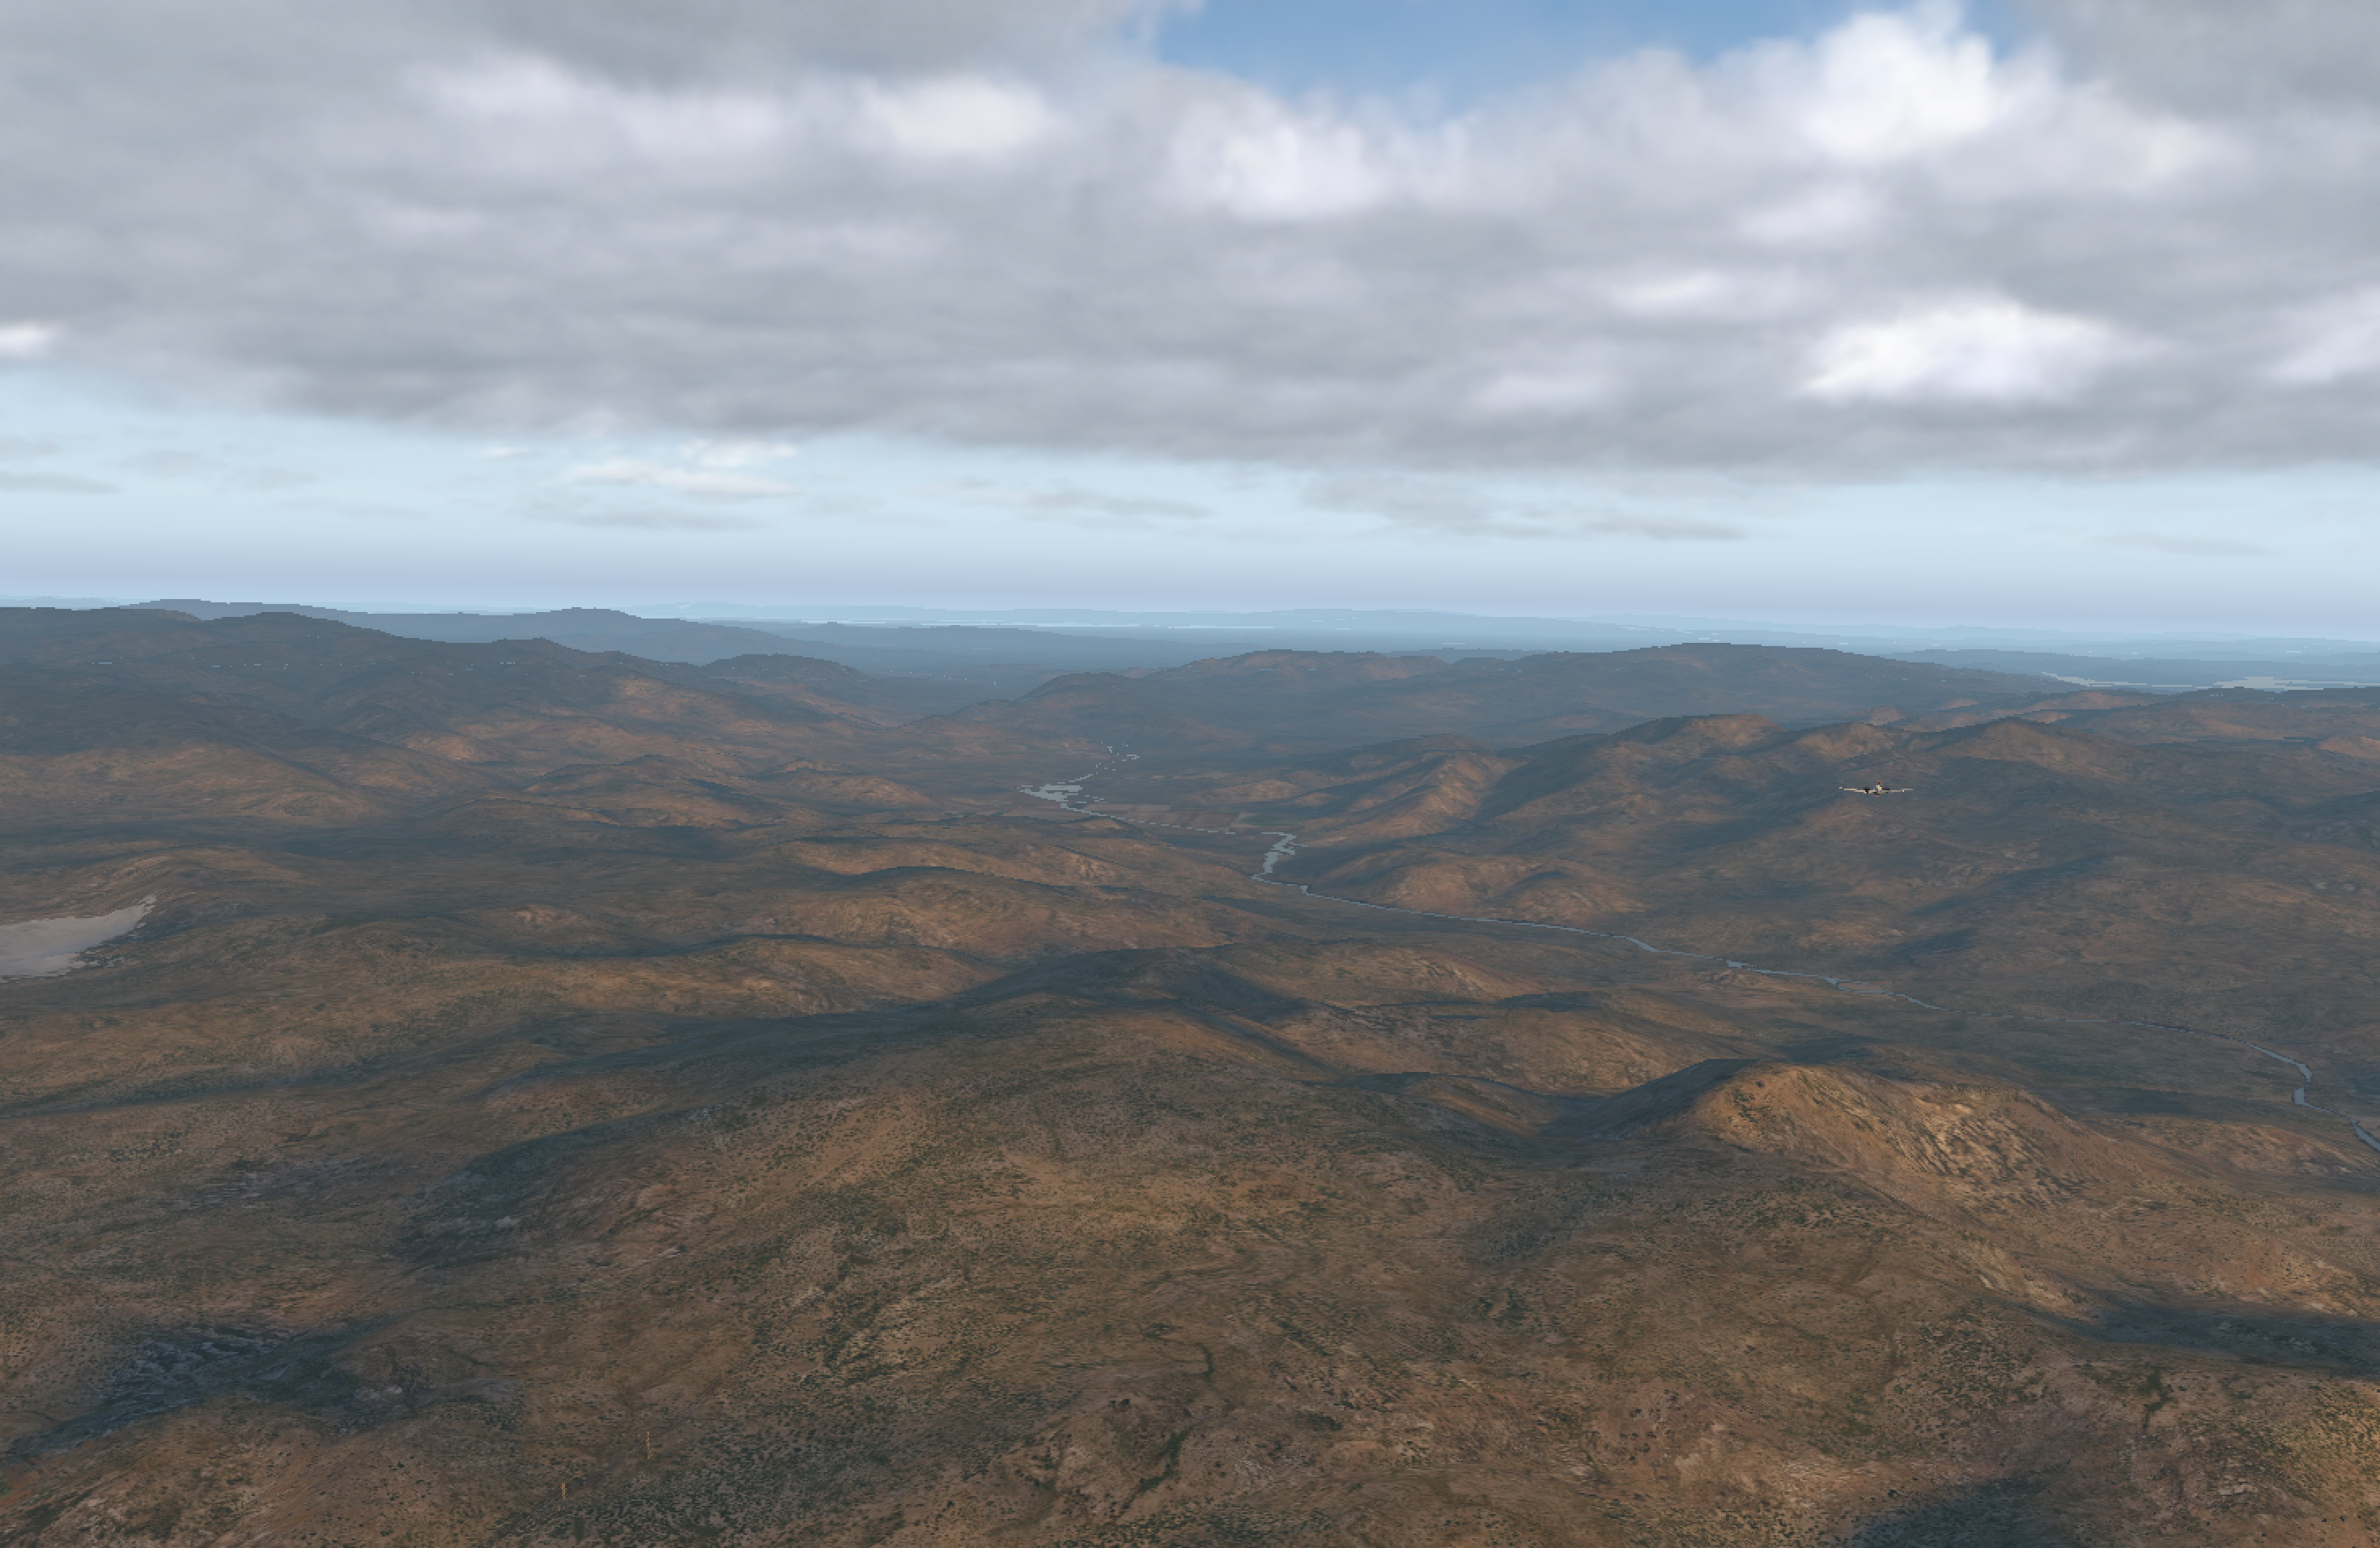aircraft: (1842, 779, 1912, 805)
